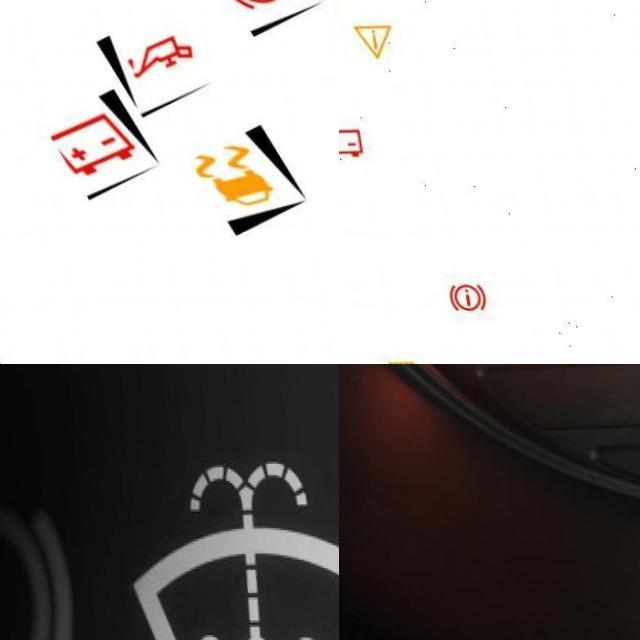Washer Fluid: (108, 461, 339, 640)
